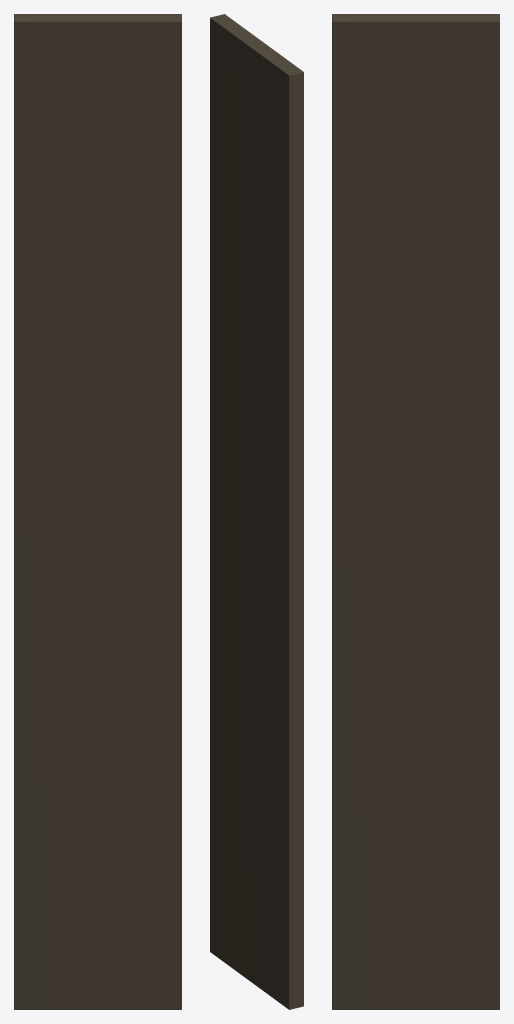
File: ShelfUpright.glb
The picture shows the model from 3 angles, left to right: view 1: azimuth 90°, elevation 25°; view 2: azimuth 210°, elevation 25°; view 3: azimuth 270°, elevation 25°; orthographic projection. The views are drawn at different scales.
Visible parts, largest first — view 1: ShelfUpright; view 2: ShelfUpright; view 3: ShelfUpright.
Part boxes in pixels (x1,y1,x2,y2): ShelfUpright: [14, 14, 181, 1009]; ShelfUpright: [210, 14, 303, 1009]; ShelfUpright: [332, 14, 499, 1009].
Bounding box in the file's own units: 0.055 × 3.25 × 0.5.
